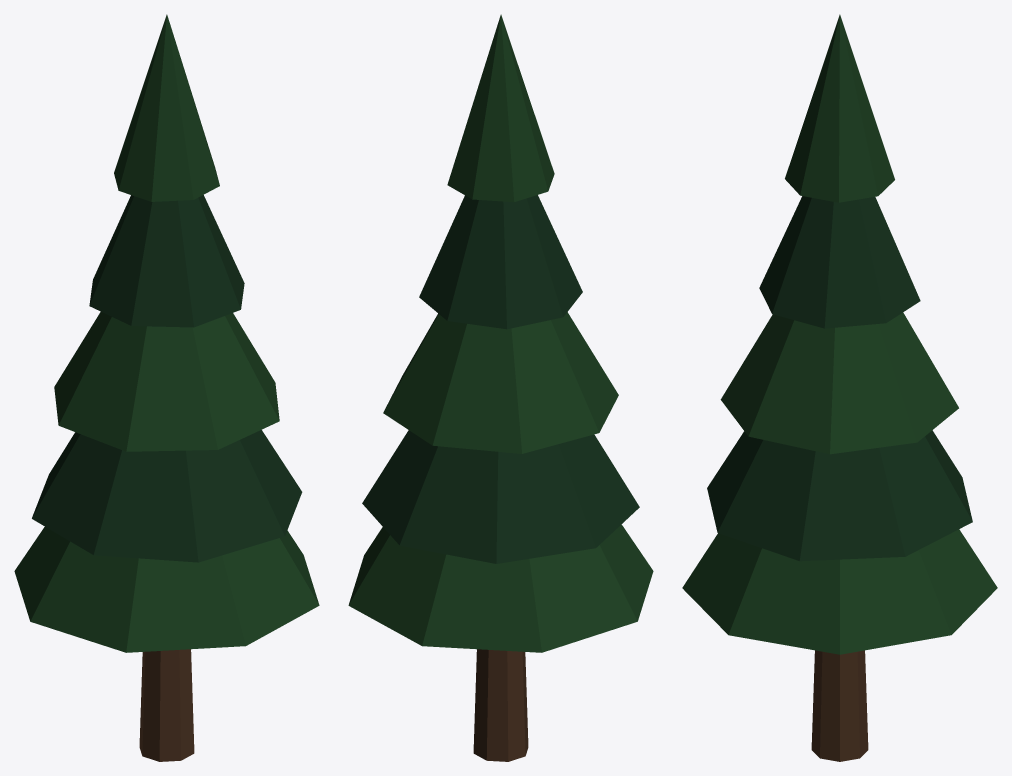
File: pine_1.obj
3 views of the same model, side by side, from view 1: azimuth 30°, elevation 25°; view 2: azimuth 150°, elevation 25°; view 3: azimuth 270°, elevation 25° (orthographic).
Visible parts, largest first — view 1: pine_1; view 2: pine_1; view 3: pine_1.
Boxes of the visible parts, x1,y1,x2,y2 form: pine_1: [14, 14, 319, 761]; pine_1: [348, 14, 653, 761]; pine_1: [682, 14, 997, 761].
Size of the model in its own units: 8.46 by 21.77 by 8.46.
